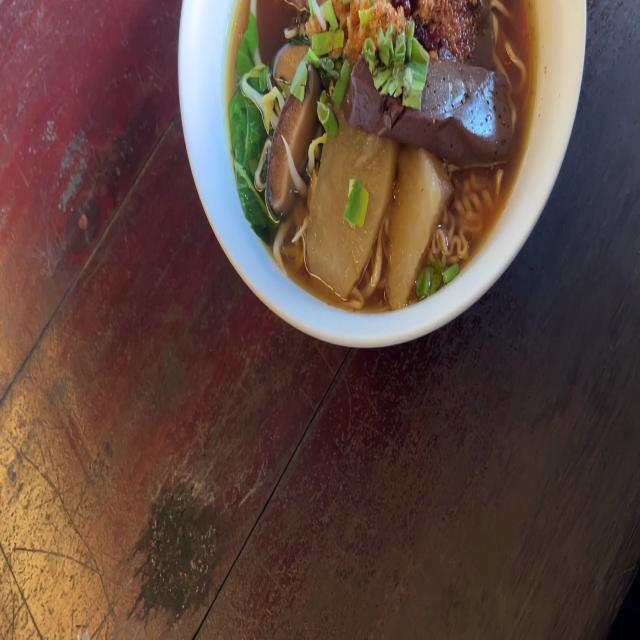boiled_chicken_blood_jelly: (424, 59, 513, 165), (342, 63, 397, 130), (472, 0, 495, 63)
daikon_radish: (312, 154, 446, 294)
noodle: (231, 0, 516, 279)
